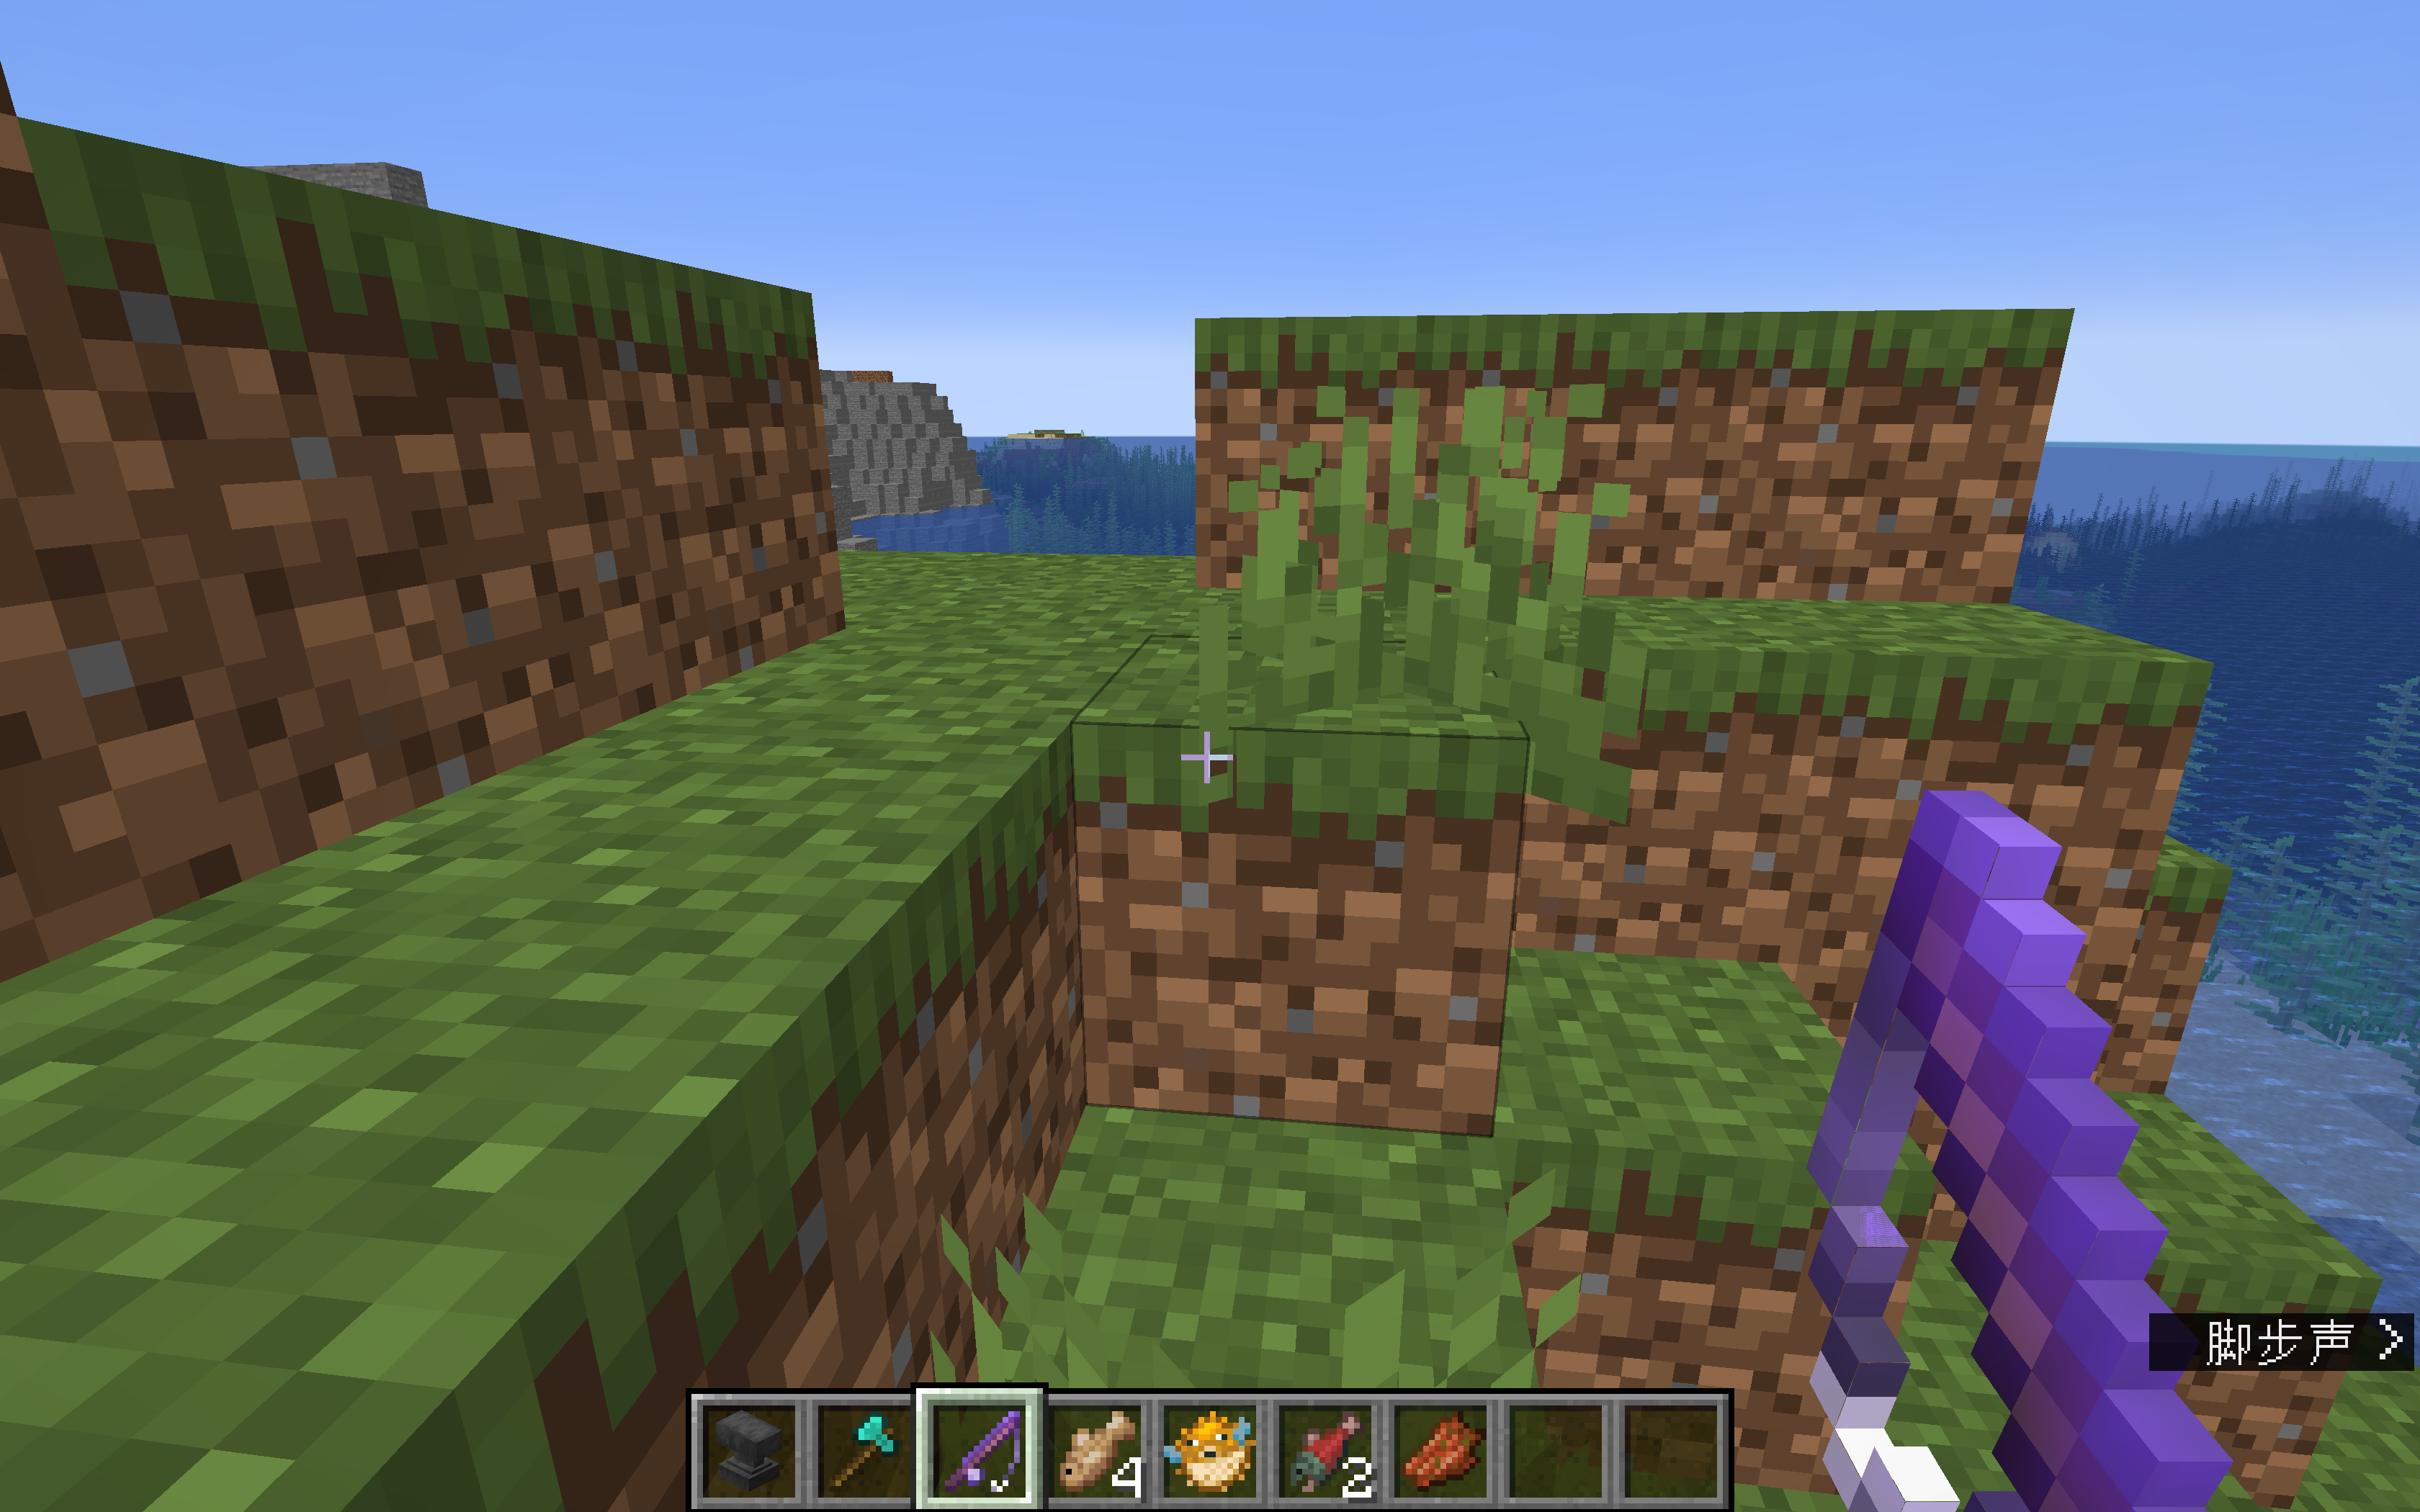inf: (2148, 1313, 2413, 1371)
